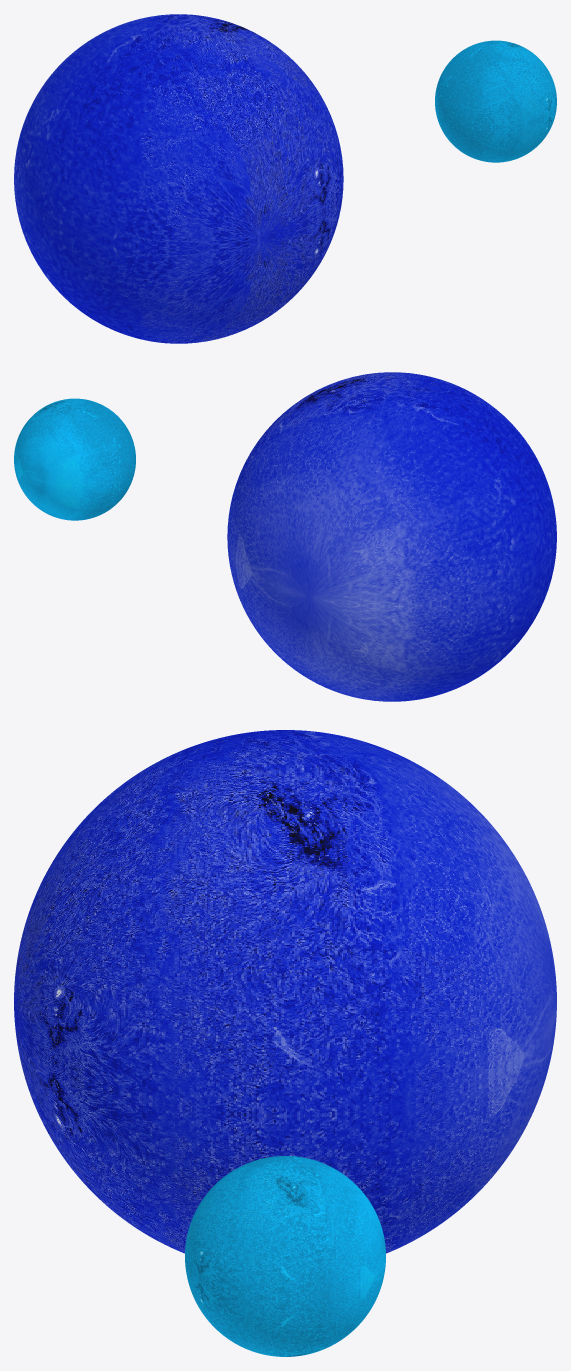
The model's file is binary_system(1).glb.
3 renders of one model, top to bottom at view 1: azimuth 30°, elevation 25°; view 2: azimuth 150°, elevation 25°; view 3: azimuth 270°, elevation 25°, orthographic. The views are drawn at different scales.
Parts seen in each view (by area): view 1: Renderer Node_3; view 2: Renderer Node_3; view 3: Renderer Node_3.
Boxes of the visible parts, x1,y1,x2,y2 form: Renderer Node_3: (14, 14, 556, 343); Renderer Node_3: (14, 372, 556, 701); Renderer Node_3: (14, 730, 556, 1356).
Size of the model in its own units: 97 by 53.99 by 54.
Materials: 2 (2 with a texture image).
